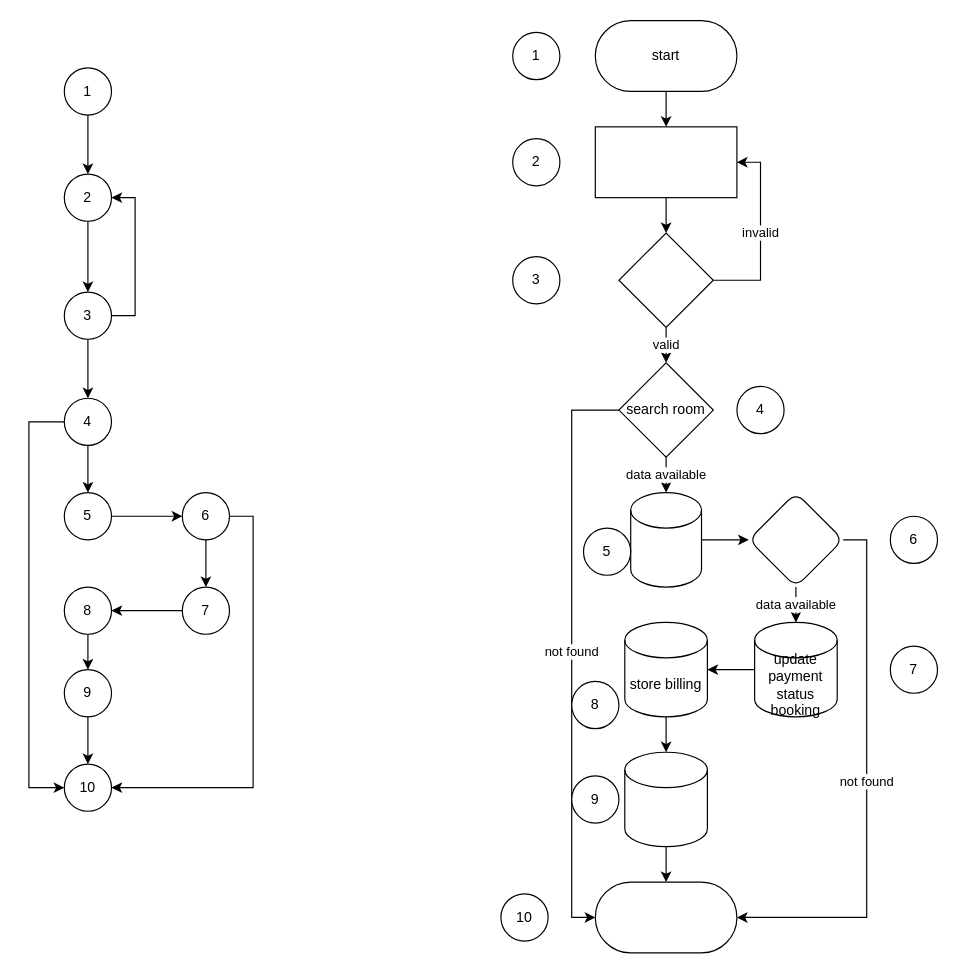
The diagram is 958 pixels wide and 973 high, and some of its shapes have lost their labels. The shapes that lost their labels are listed below. From the top down, each one's centre as x and y in pixels, then its label:
[665,162]: input data
[665,279]: validation
[666,539]: store booking
[795,539]: search booking
[665,799]: update room status
[665,917]: end
